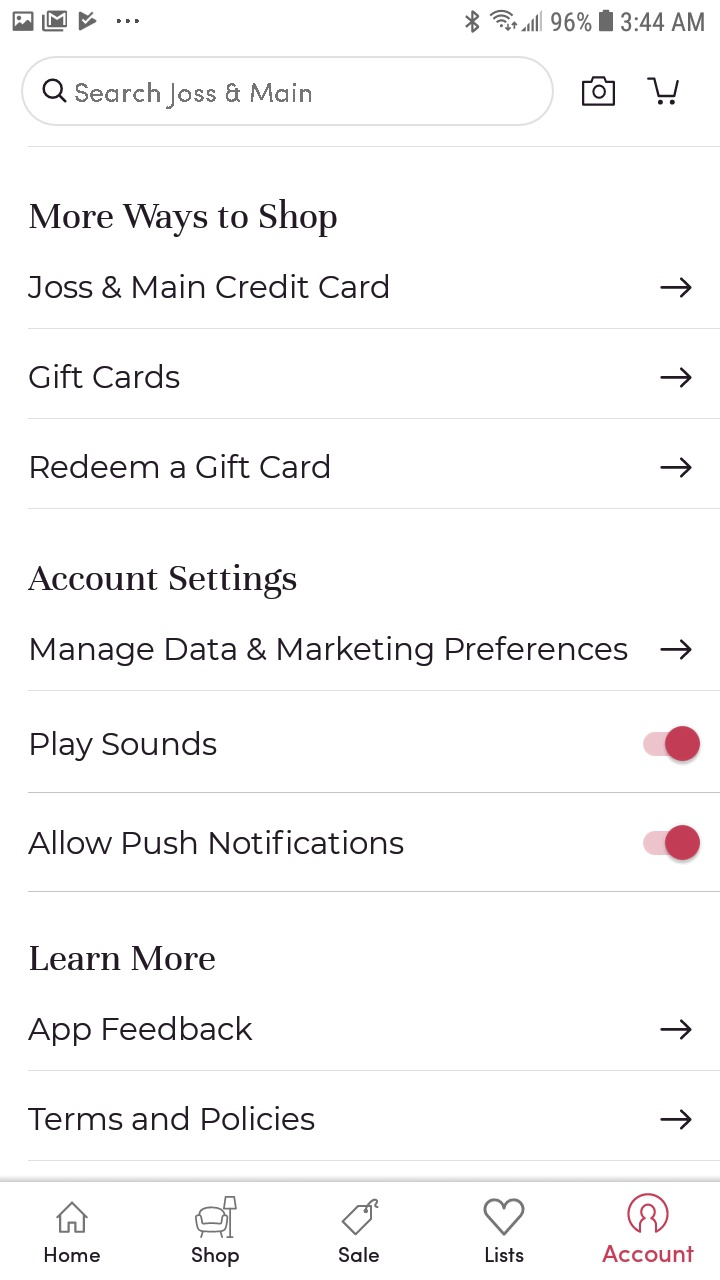EditText: (21, 57, 554, 128)
Icon: (626, 1193, 669, 1234), (482, 1198, 525, 1237), (341, 1198, 380, 1236), (56, 1201, 89, 1234), (582, 76, 616, 107), (647, 78, 680, 107), (659, 638, 692, 661), (660, 277, 693, 299), (660, 367, 693, 389), (660, 457, 693, 479), (660, 1019, 693, 1041), (659, 1108, 692, 1130), (42, 78, 68, 104)
Image: (194, 1195, 238, 1239)
Switch: (643, 725, 701, 762), (643, 824, 701, 861)
Text: (31, 636, 628, 667), (29, 199, 338, 239), (28, 829, 405, 855), (28, 564, 297, 600), (28, 274, 389, 299), (31, 453, 330, 479), (28, 1105, 316, 1131), (28, 1015, 254, 1047), (76, 82, 313, 110), (31, 730, 218, 762), (30, 945, 217, 971), (30, 364, 181, 389), (602, 1244, 695, 1263), (192, 1246, 241, 1268), (45, 1246, 102, 1263), (338, 1246, 380, 1263), (485, 1246, 525, 1263)
UpperTaskBar: (1, 1, 720, 35)
